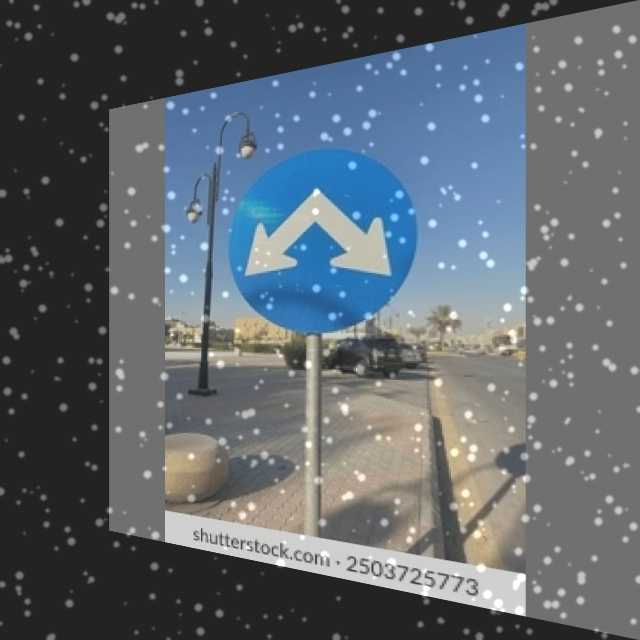Pass_Either_Side: (223, 131, 426, 332)
